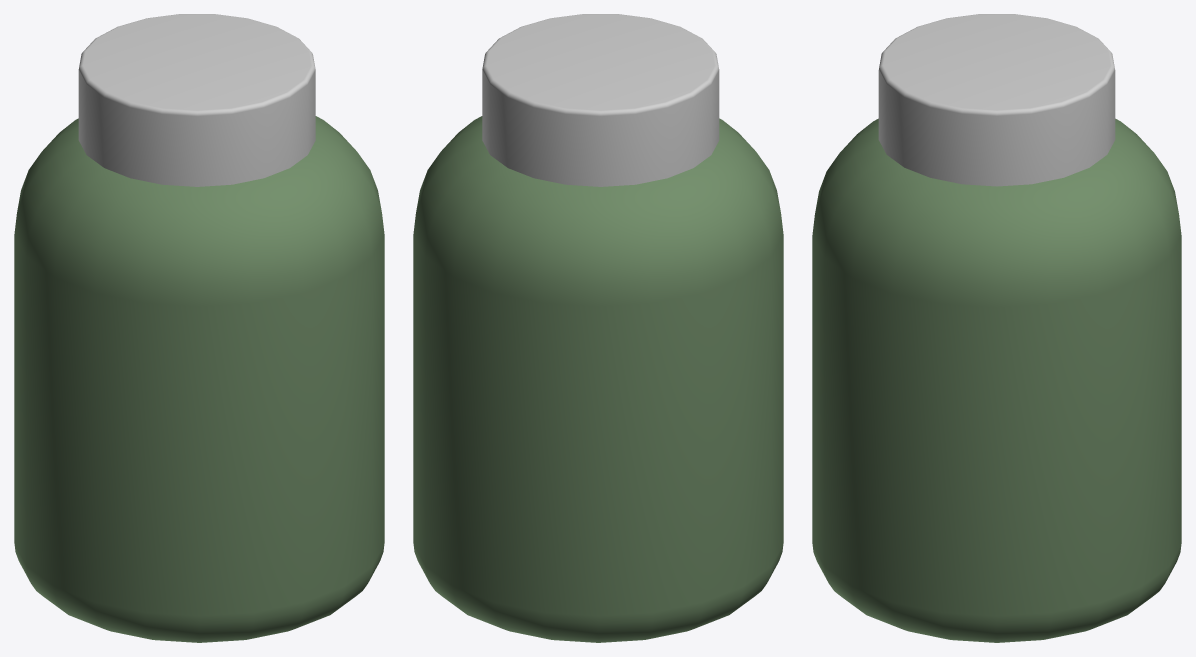
File: VitaminBottle.dae
3 views of the same model, side by side, from view 1: azimuth 30°, elevation 25°; view 2: azimuth 150°, elevation 25°; view 3: azimuth 270°, elevation 25° (orthographic).
Parts seen in each view (by area): view 1: VitaminBottle; view 2: VitaminBottle; view 3: VitaminBottle.
Boxes of the visible parts, box(x1,y1,x2,y2) form: VitaminBottle: box(14, 14, 384, 642); VitaminBottle: box(413, 14, 783, 642); VitaminBottle: box(812, 14, 1181, 642).
Size of the model in its own units: 1.32 by 2.04 by 1.32.
